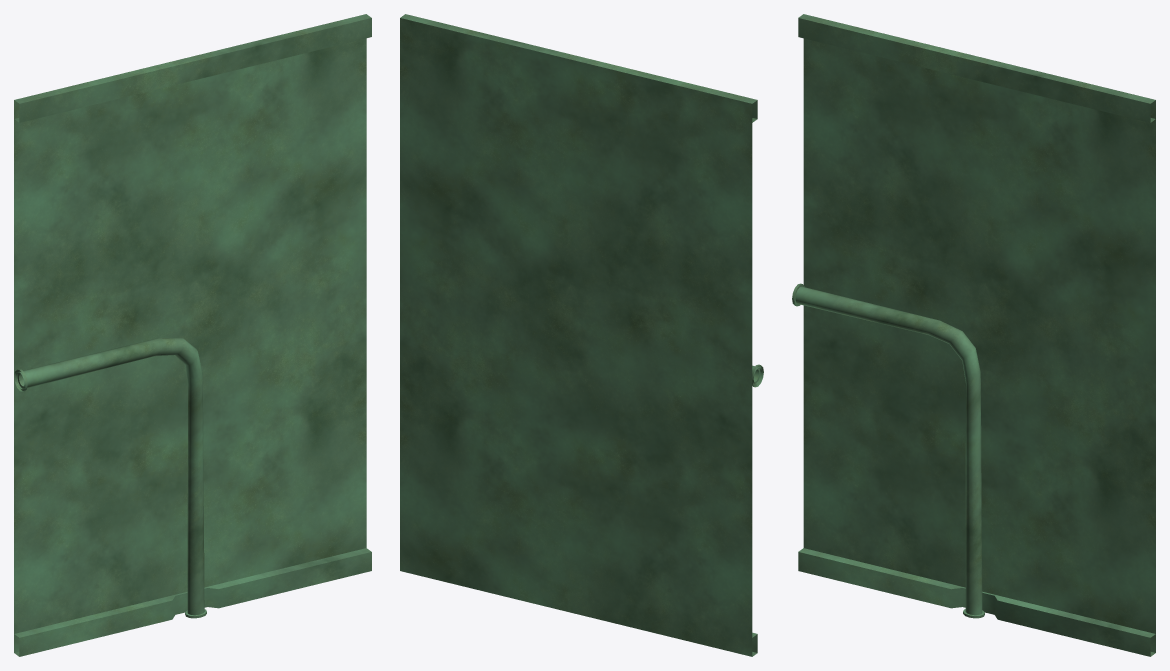
The model's file is Wall_LowerDeck_Down.FBX.
3 views of the same model, side by side, from view 1: azimuth 30°, elevation 25°; view 2: azimuth 150°, elevation 25°; view 3: azimuth 330°, elevation 25° (orthographic).
Visible parts, largest first — view 1: Plane013; view 2: Plane013; view 3: Plane013.
Boxes of the visible parts, left/top/right/bottom form: Plane013: left=14, top=14, right=371, bottom=656; Plane013: left=400, top=14, right=763, bottom=656; Plane013: left=792, top=14, right=1155, bottom=656.
Size of the model in its own units: 200 by 300 by 11.34.
